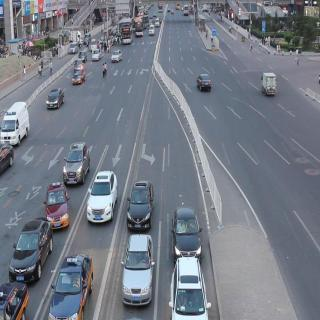BigCar: (120, 18, 133, 46), (134, 19, 145, 40)
Car: (47, 250, 92, 320), (166, 253, 213, 320), (8, 219, 52, 286), (121, 232, 155, 304), (170, 205, 206, 266), (86, 162, 117, 228), (125, 175, 155, 232), (43, 178, 72, 230), (1, 99, 31, 148), (63, 140, 91, 187), (0, 277, 30, 320), (45, 84, 65, 113), (196, 71, 215, 97), (261, 70, 278, 96), (71, 68, 89, 86), (110, 46, 124, 65), (90, 46, 102, 63), (77, 51, 89, 63), (73, 60, 85, 71), (147, 24, 156, 38)
